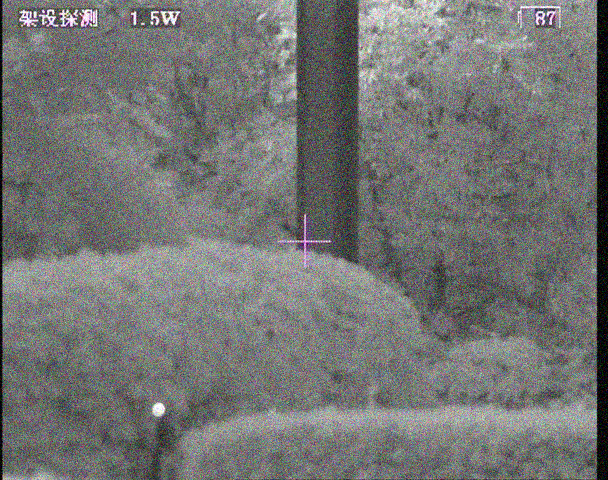my: (150, 402, 165, 417)
